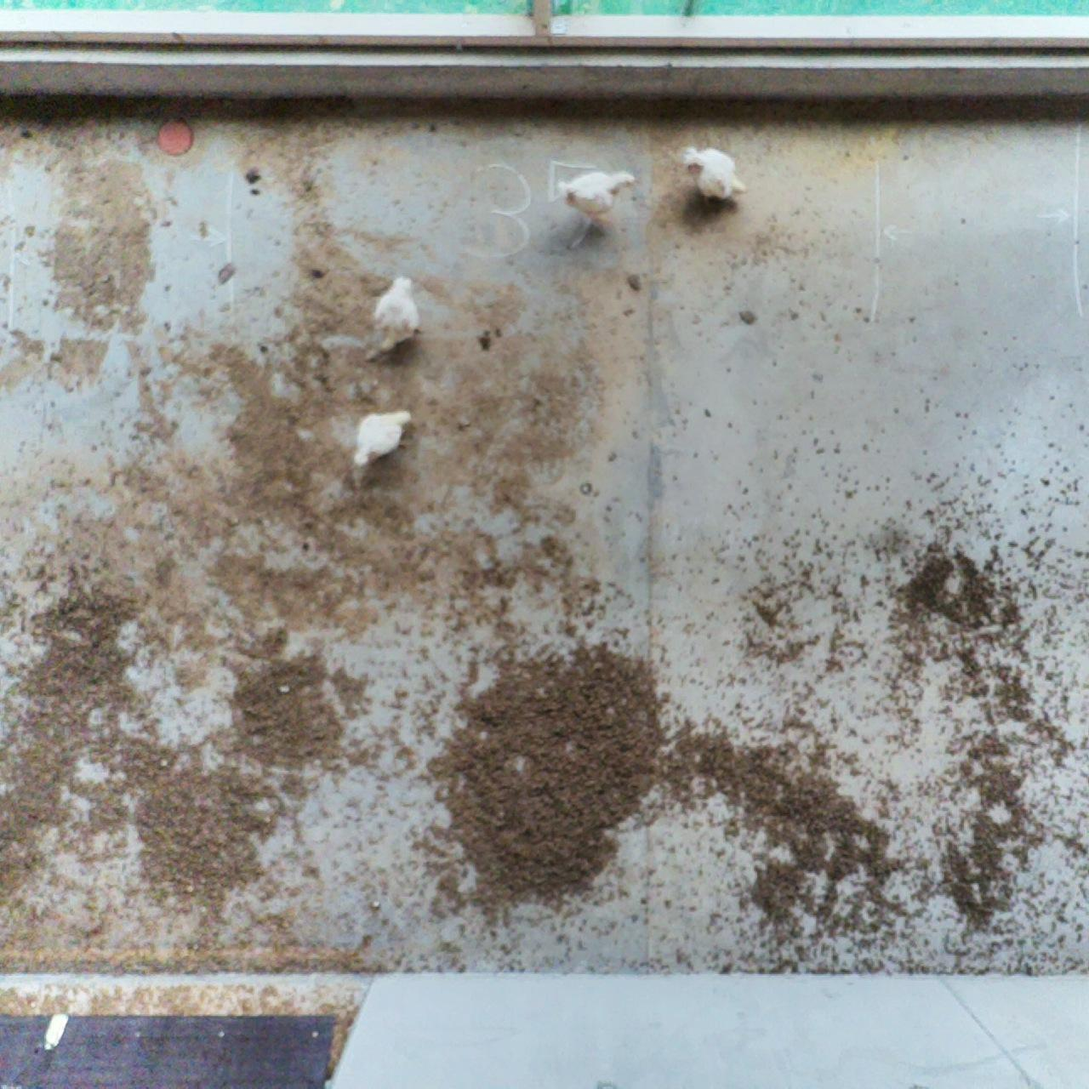chicken: (555, 164, 639, 230), (678, 140, 748, 208), (370, 272, 422, 355), (351, 408, 414, 472)
